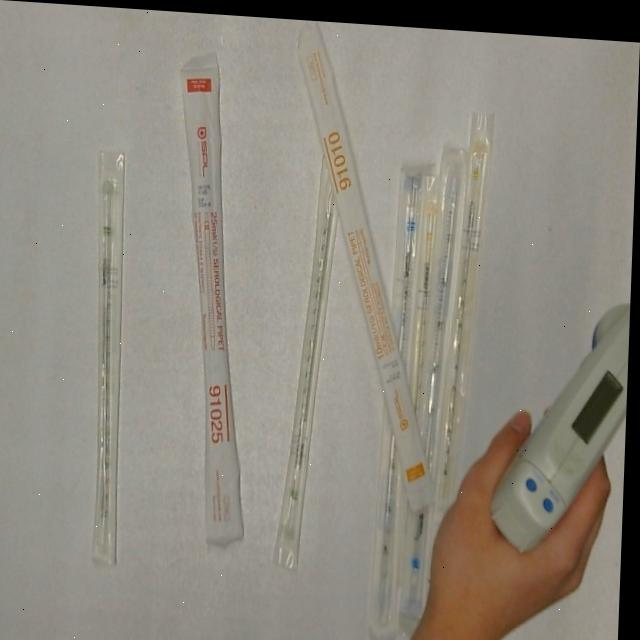Pipette Controller: (483, 289, 632, 562)
Serelogical Pipet 1 mL: (437, 101, 502, 509)
Serelogical Pipet 10 mL: (281, 17, 454, 513)
Serelogical Pipet 2 mL: (275, 134, 349, 574), (80, 140, 140, 568)
Serelogical Pipet 25 mL: (161, 43, 267, 548)
Serelogical Pipet 5 mL: (406, 136, 474, 618), (369, 149, 430, 637)
